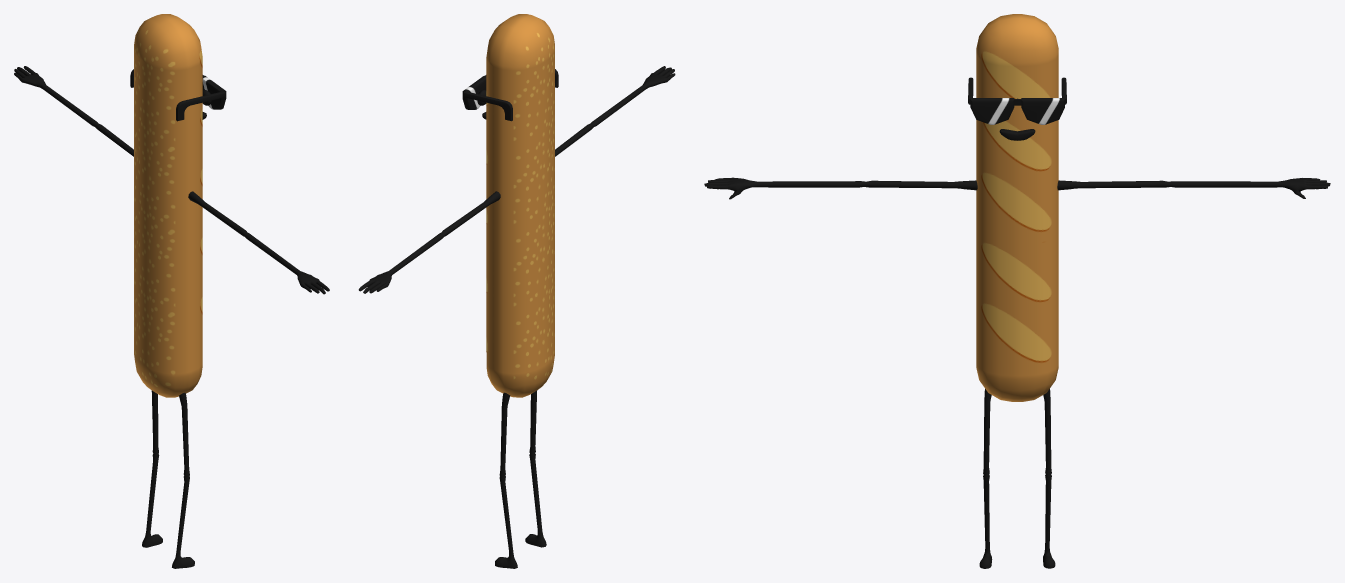
File: Cool Baguette.glb
3 renders of one model, left to right at view 1: azimuth 30°, elevation 25°; view 2: azimuth 150°, elevation 25°; view 3: azimuth 270°, elevation 25°, orthographic. The views are drawn at different scales.
Visible parts, largest first — view 1: _100Avatars_133_CoolBaguette; view 2: _100Avatars_133_CoolBaguette; view 3: _100Avatars_133_CoolBaguette.
Boxes of the visible parts, x1,y1,x2,y2 form: _100Avatars_133_CoolBaguette: (14,14,329,568); _100Avatars_133_CoolBaguette: (358,14,675,568); _100Avatars_133_CoolBaguette: (704,14,1330,568).
Bounding box in the file's own units: 0.5842 × 4.81 × 4.99.
Materials: 1 (1 with a texture image).
